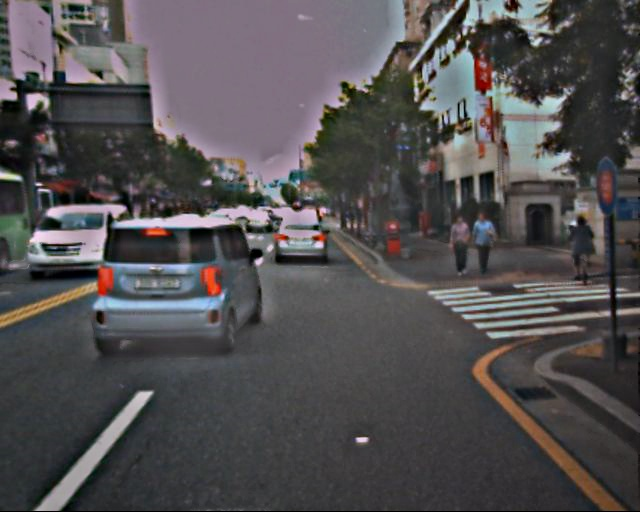person: (448, 214, 475, 281), (567, 213, 594, 279), (469, 212, 496, 278)
